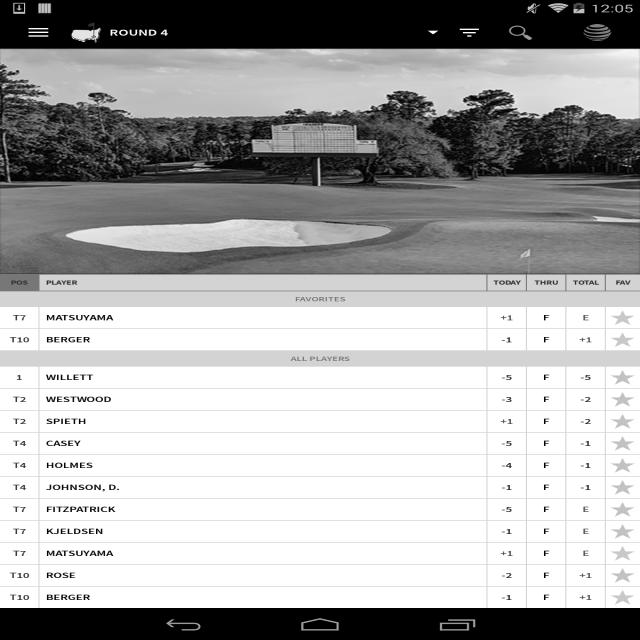CheckBox: (606, 307, 640, 328), (606, 329, 640, 350), (606, 367, 640, 388), (606, 389, 640, 410), (606, 411, 640, 432), (606, 433, 640, 454), (606, 455, 640, 476), (606, 477, 640, 498), (606, 499, 640, 520), (606, 521, 640, 542), (606, 543, 640, 564), (606, 565, 640, 586), (606, 587, 640, 608)
ImageButton: (9, 16, 68, 48)
ImageView: (0, 49, 640, 274), (554, 21, 640, 43), (68, 21, 104, 44)
Spinner: (104, 16, 444, 48)
TextView: (104, 16, 427, 48), (0, 291, 640, 307), (0, 351, 640, 367), (39, 307, 487, 328), (39, 329, 487, 350), (39, 367, 487, 388), (39, 389, 487, 410), (39, 411, 487, 432), (39, 433, 487, 454), (39, 455, 487, 476), (39, 477, 487, 498), (39, 499, 487, 520), (39, 521, 487, 542), (39, 543, 487, 564), (39, 565, 487, 586), (39, 587, 487, 608), (39, 274, 487, 290), (444, 16, 495, 48), (495, 16, 546, 48), (0, 306, 38, 328), (0, 328, 38, 350), (0, 366, 38, 388), (0, 388, 38, 410), (0, 410, 38, 432), (0, 432, 38, 454), (0, 454, 38, 476), (0, 476, 38, 498), (0, 498, 38, 520), (0, 520, 38, 542), (0, 542, 38, 564), (0, 564, 38, 586), (0, 586, 38, 608), (487, 307, 526, 328), (566, 307, 605, 328), (487, 329, 526, 350), (566, 329, 605, 350), (487, 367, 526, 388), (566, 367, 605, 388), (487, 389, 526, 410), (566, 389, 605, 410), (487, 411, 526, 432), (566, 411, 605, 432), (487, 433, 526, 454), (566, 433, 605, 454), (487, 455, 526, 476), (566, 455, 605, 476), (487, 477, 526, 498), (566, 477, 605, 498), (487, 499, 526, 520), (566, 499, 605, 520), (487, 521, 526, 542), (566, 521, 605, 542), (487, 543, 526, 564), (566, 543, 605, 564), (487, 565, 526, 586), (566, 565, 605, 586), (487, 587, 526, 608), (566, 587, 605, 608), (527, 307, 565, 328), (527, 329, 565, 350), (527, 367, 565, 388), (527, 389, 565, 410), (527, 411, 565, 432), (527, 433, 565, 454), (527, 455, 565, 476), (527, 477, 565, 498), (527, 499, 565, 520), (527, 521, 565, 542), (527, 543, 565, 564), (527, 565, 565, 586), (527, 587, 565, 608), (487, 274, 526, 290), (566, 274, 605, 290), (0, 274, 38, 290), (527, 274, 565, 290), (606, 274, 640, 290)
